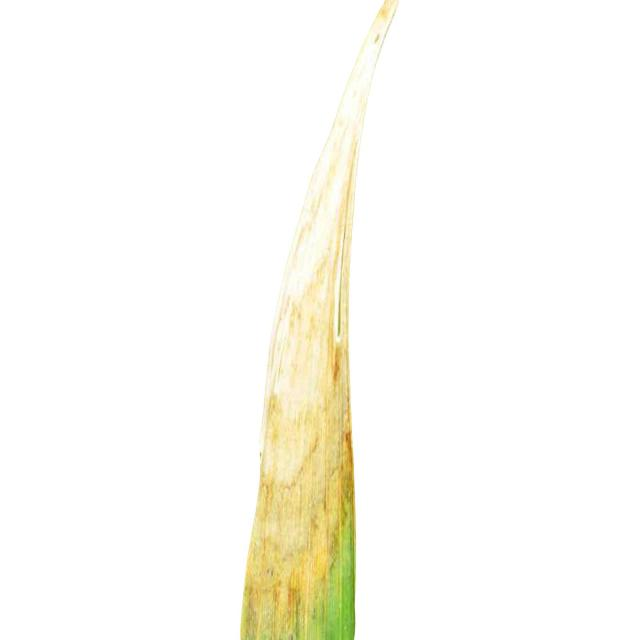Leaf scald: (195, 3, 480, 640)
